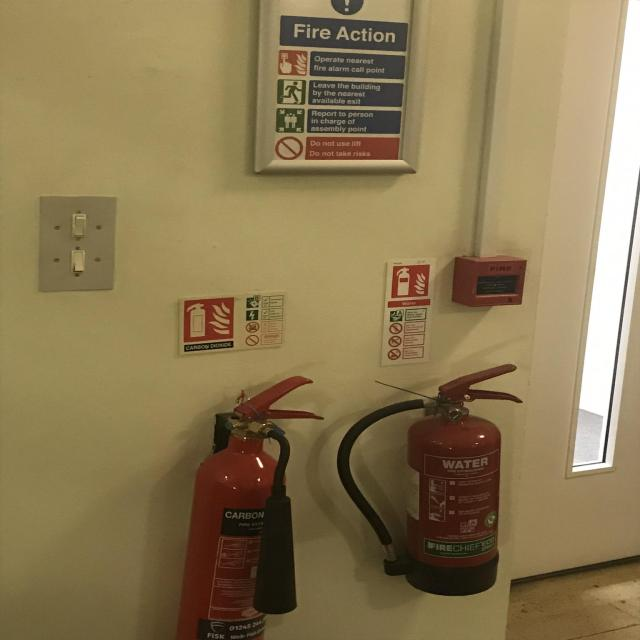fire_extinguisher: (333, 357, 526, 599), (160, 372, 328, 640)
